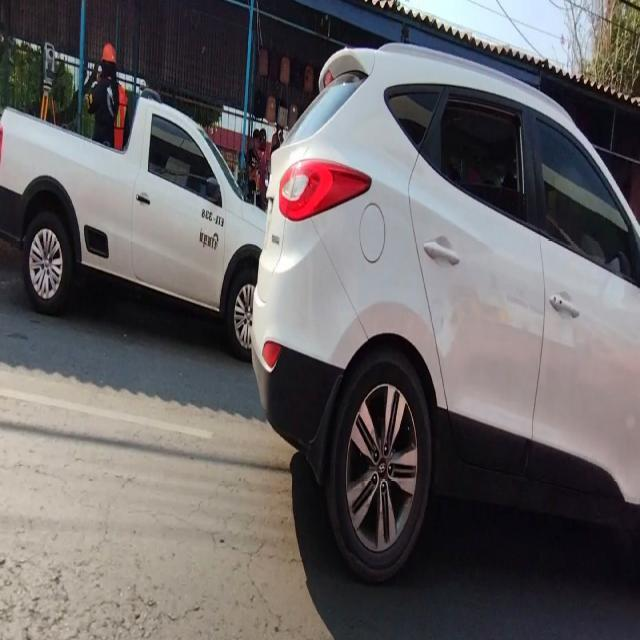adult: (88, 47, 118, 149), (247, 128, 263, 205)
